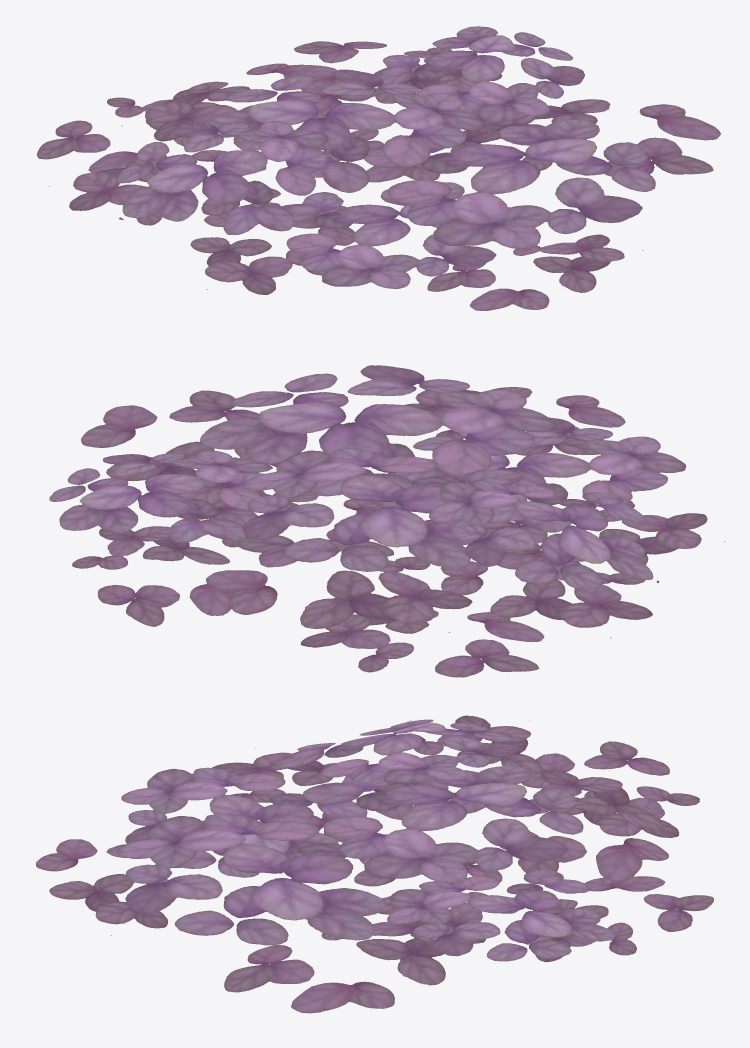
File: SM_Com_Gra_03AS.fbx
3 renders of one model, top to bottom at view 1: azimuth 30°, elevation 25°; view 2: azimuth 150°, elevation 25°; view 3: azimuth 270°, elevation 25°, orthographic. The views are drawn at different scales.
Parts seen in each view (by area): view 1: SM_Com_Gra_03AS.mo; view 2: SM_Com_Gra_03AS.mo; view 3: SM_Com_Gra_03AS.mo.
Part boxes in pixels (x1,y1,x2,y2): SM_Com_Gra_03AS.mo: (37, 26, 720, 310); SM_Com_Gra_03AS.mo: (49, 365, 724, 677); SM_Com_Gra_03AS.mo: (36, 715, 713, 1013).
Size of the model in its own units: 1.16 by 0.1076 by 1.12.
